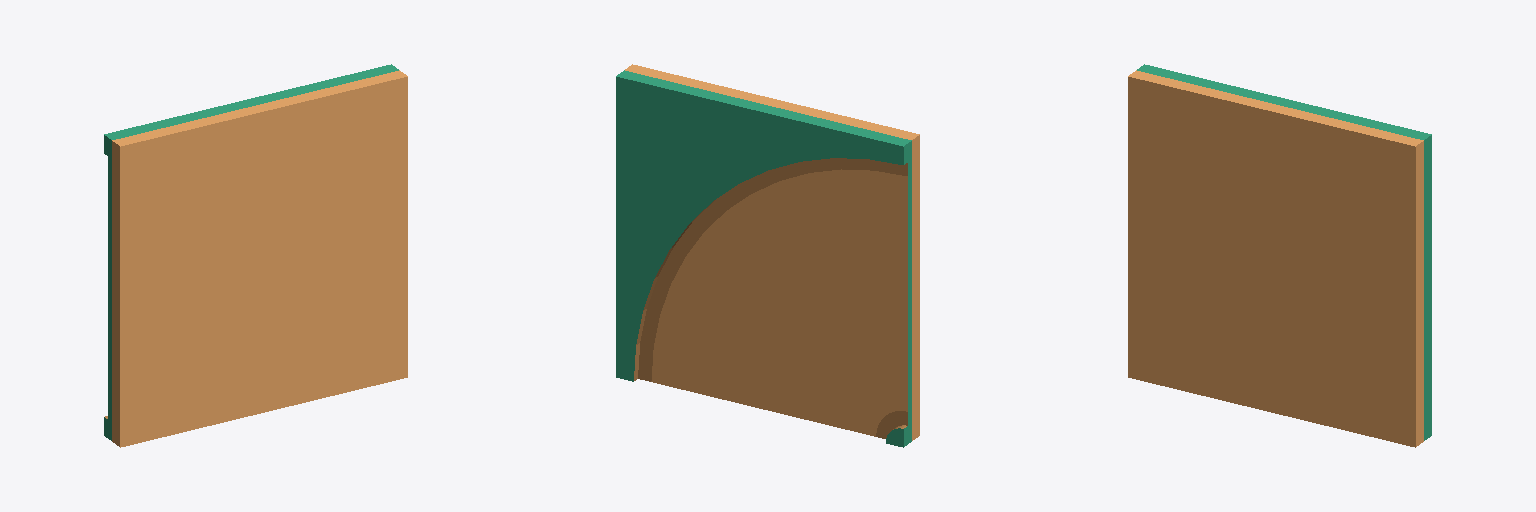
The model's file is tile_wideCorner.obj.
The picture shows the model from 3 angles: view 1: azimuth 30°, elevation 25°; view 2: azimuth 150°, elevation 25°; view 3: azimuth 330°, elevation 25°; orthographic projection.
Visible parts, largest first — view 1: tile_wideCorner; view 2: tile_wideCorner; view 3: tile_wideCorner.
Boxes of the visible parts, <box> form: tile_wideCorner: <box>104,64,407,447</box>; tile_wideCorner: <box>616,64,919,447</box>; tile_wideCorner: <box>1128,64,1431,447</box>.
Bounding box in the file's own units: 2 × 2 × 0.2.